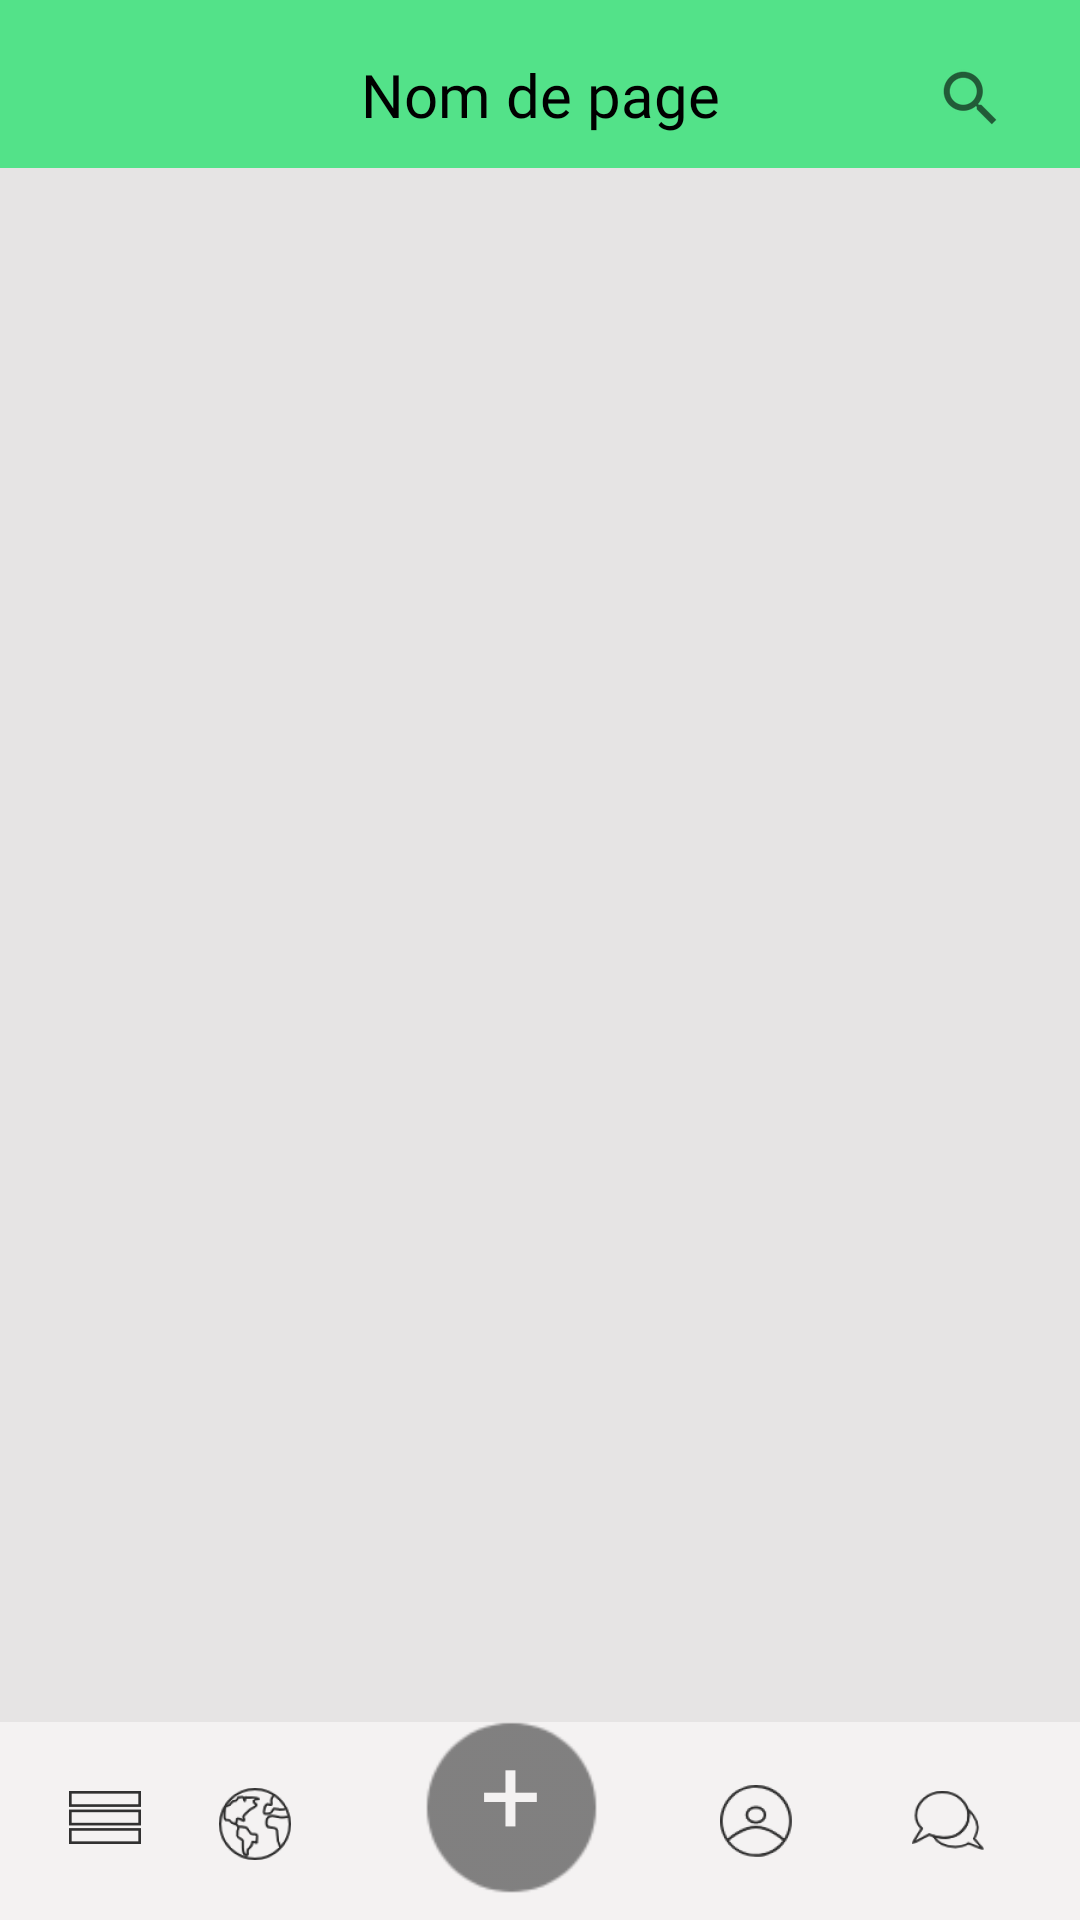

Locate icon controls on the screen. Image size 1080×1920, boxes as (x1, y1, x2, y2).
add: (426, 1722, 597, 1893)
discuss: (912, 1791, 984, 1850)
menu: (69, 1791, 141, 1844)
planet: (219, 1788, 291, 1860)
